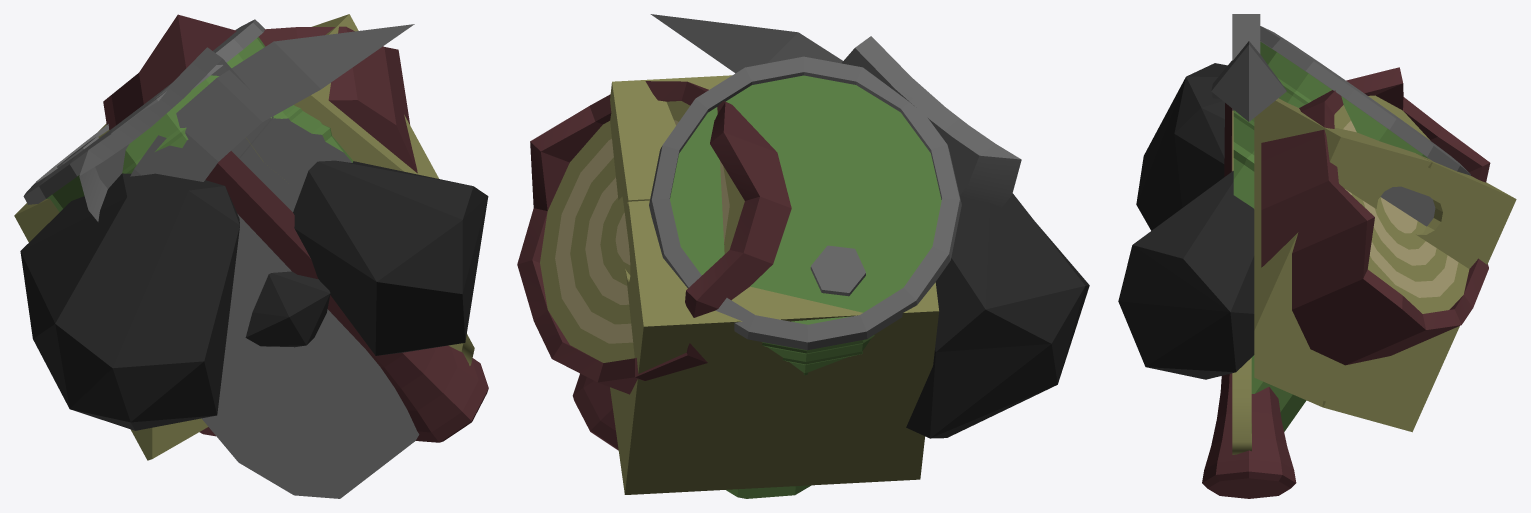
File: ktoProchitalTotPiska.fbx
3 renders of one model, left to right at view 1: azimuth 30°, elevation 25°; view 2: azimuth 150°, elevation 25°; view 3: azimuth 270°, elevation 25°, orthographic. The views are drawn at different scales.
Parts seen in each view (by area): view 1: card_rock, Card_Barrel, Card_Pick, card_wood, card_Box, card_axe__1_; view 2: card_Box, Card_Barrel, card_wood, card_rock, card_axe__1_, Card_Pick; view 3: card_wood, card_Box, card_rock, Card_Pick, Card_Barrel, card_axe__1_.
Boxes of the visible parts, <box> form: card_rock: <box>20,160,488,430</box>; Card_Barrel: <box>23,19,419,498</box>; Card_Pick: <box>130,24,488,442</box>; card_wood: <box>103,14,417,436</box>; card_Box: <box>14,14,438,460</box>; card_axe__1_: <box>79,47,474,365</box>; card_Box: <box>610,75,939,494</box>; Card_Barrel: <box>649,56,961,498</box>; card_wood: <box>517,81,791,394</box>; card_rock: <box>906,193,1089,438</box>; card_axe__1_: <box>841,36,1021,207</box>; Card_Pick: <box>572,14,842,450</box>; card_wood: <box>1261,67,1490,365</box>; card_Box: <box>1254,98,1516,432</box>; card_rock: <box>1118,63,1254,379</box>; Card_Pick: <box>1202,41,1296,498</box>; Card_Barrel: <box>1233,26,1470,431</box>; card_axe__1_: <box>1232,14,1260,454</box>.
Bounding box in the file's own units: 237 × 235 × 200.
